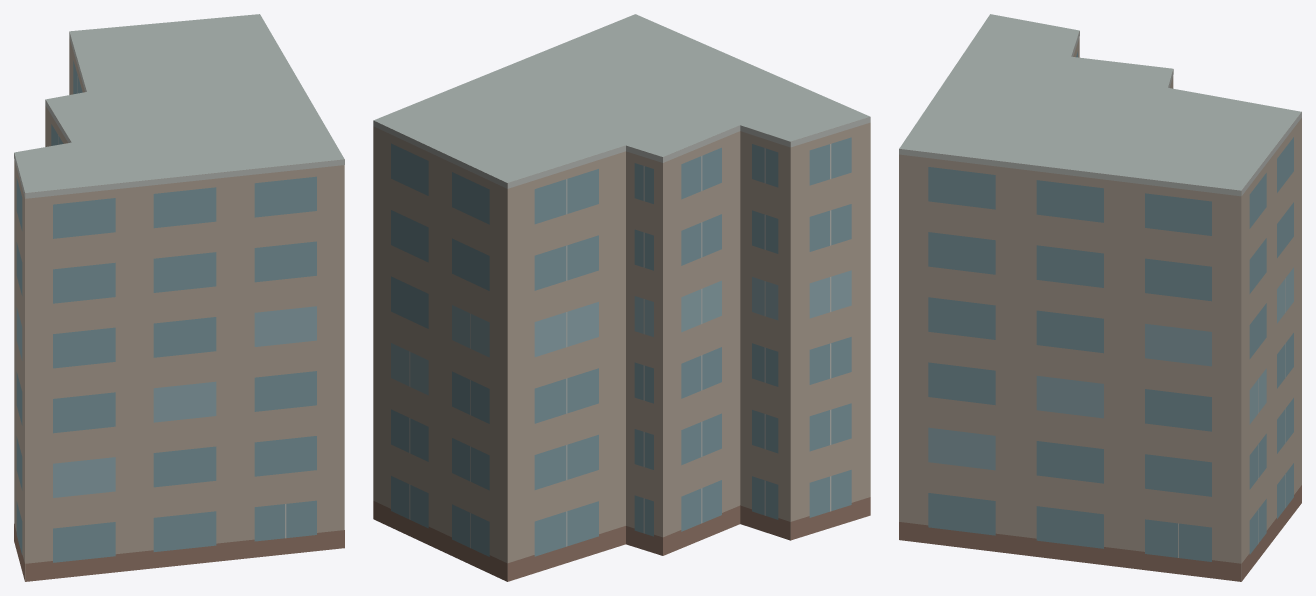
File: survey-upis-32879381.glb
3 views of the same model, side by side, from view 1: azimuth 30°, elevation 25°; view 2: azimuth 150°, elevation 25°; view 3: azimuth 270°, elevation 25° (orthographic). The views are drawn at different scales.
Visible parts, largest first — view 1: survey-upis-32879381.tmp; view 2: survey-upis-32879381.tmp; view 3: survey-upis-32879381.tmp.
Boxes of the visible parts, x1=… form: survey-upis-32879381.tmp: x1=14, y1=14, x2=344, y2=581; survey-upis-32879381.tmp: x1=373, y1=14, x2=870, y2=581; survey-upis-32879381.tmp: x1=899, y1=14, x2=1301, y2=581.
Size of the model in its own units: 16.09 by 16.6 by 15.5.
